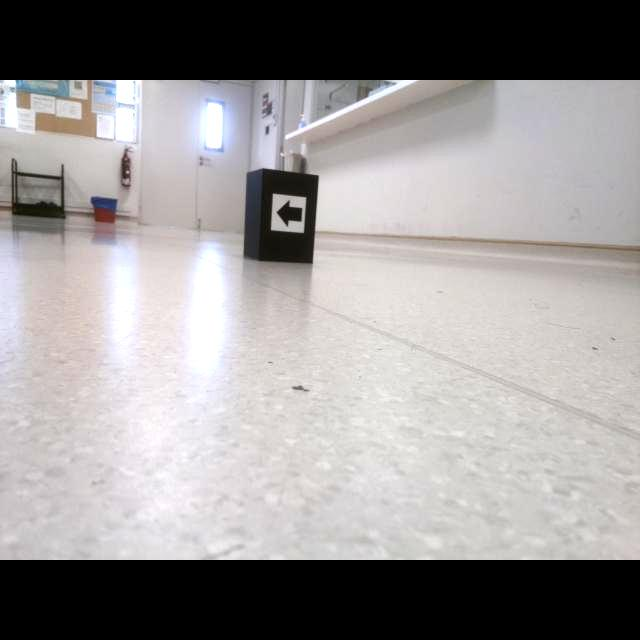LEFT: (276, 199, 303, 229)
